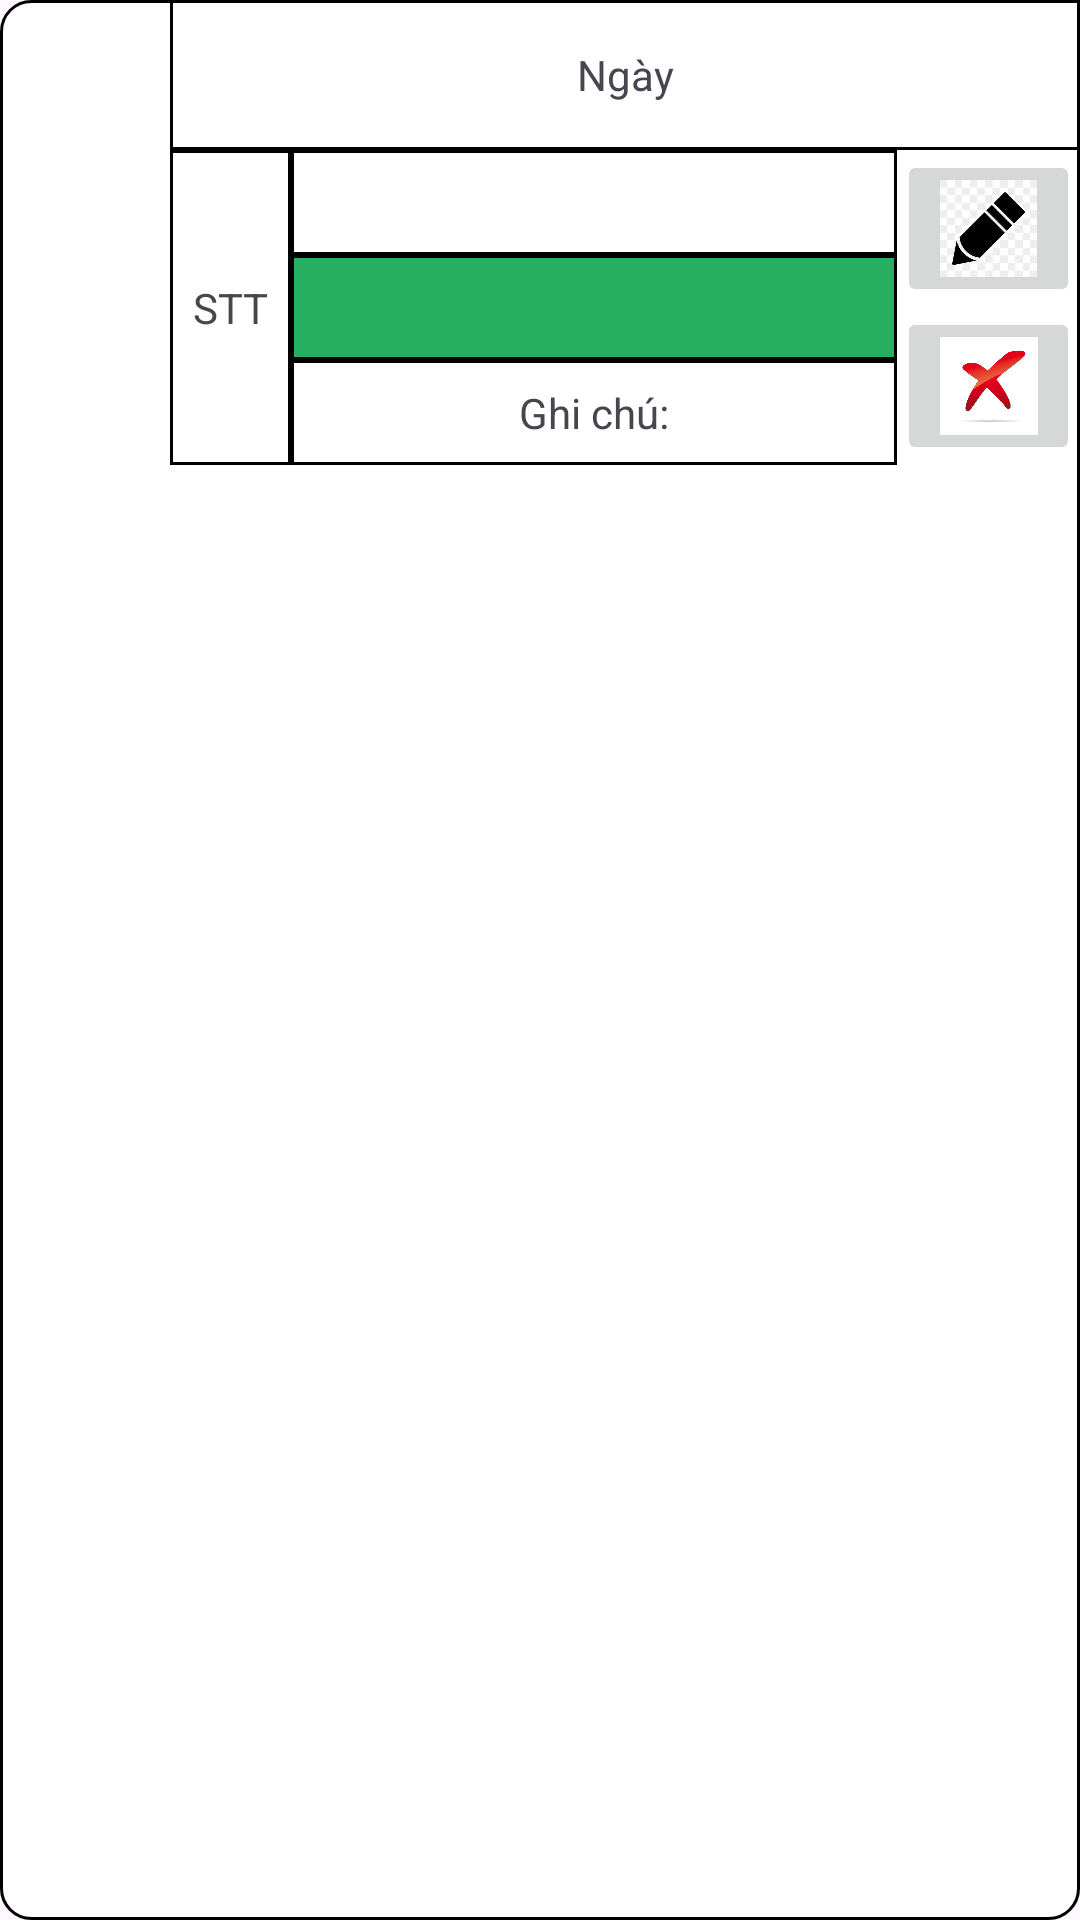

Screen size 1080*1920. Icon name, then its box in pixels as (x1, y1, x2, y2):
delete: (909, 325, 1068, 447)
pencil: (909, 168, 1068, 289)
